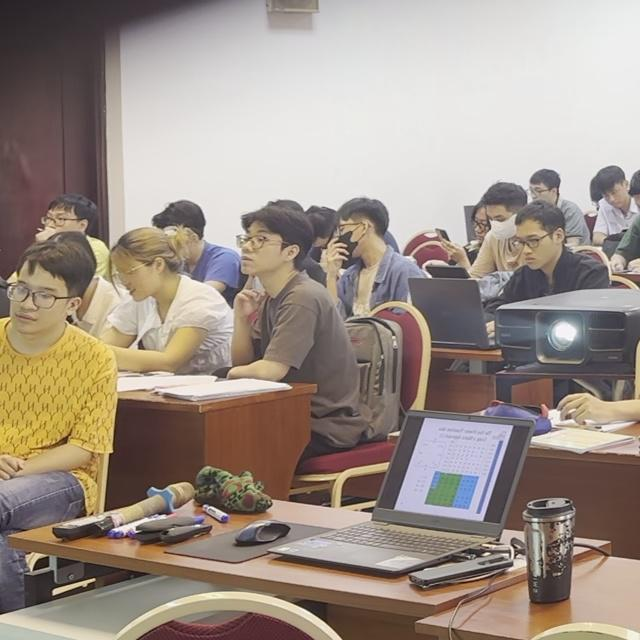Looking away: (11, 269, 58, 332), (116, 265, 153, 302), (517, 228, 549, 267), (604, 184, 624, 208), (531, 183, 547, 205)
Looking forward: (238, 231, 273, 274), (43, 208, 74, 236)
Phone use: (437, 200, 492, 268)
